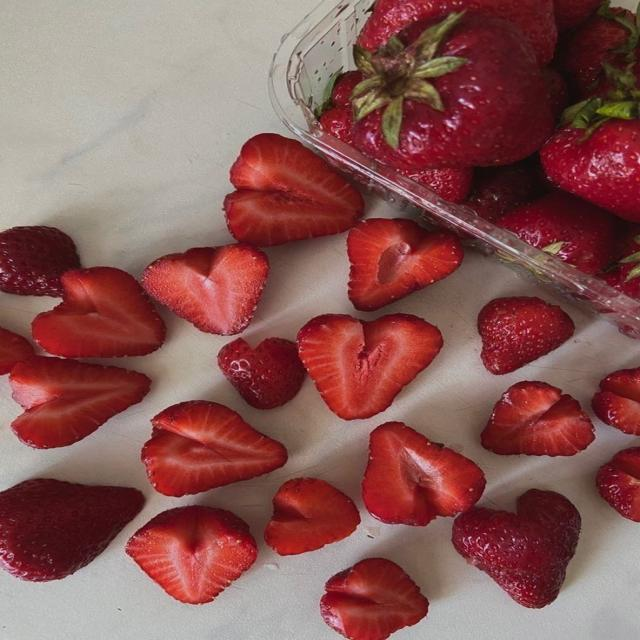strawberry: (350, 10, 553, 170), (540, 49, 639, 221), (357, 0, 557, 67), (497, 190, 617, 273)
strawberry sliced: (223, 133, 363, 246), (297, 313, 443, 419), (451, 489, 580, 608), (0, 478, 143, 581), (141, 400, 287, 496), (9, 356, 150, 449), (126, 505, 257, 604), (362, 422, 485, 526), (32, 267, 164, 358), (142, 243, 269, 335), (348, 219, 462, 311), (320, 558, 428, 639), (481, 381, 593, 455), (478, 297, 574, 374), (264, 478, 359, 555), (217, 337, 305, 409), (0, 226, 80, 296), (596, 446, 639, 522), (592, 367, 639, 436), (0, 328, 34, 375)
